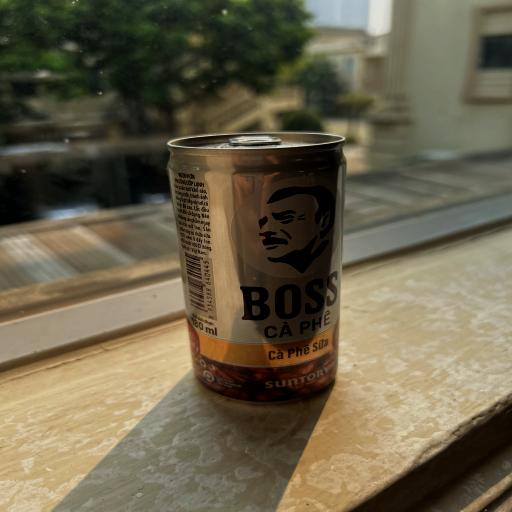boss_coffee: (165, 124, 354, 412)
